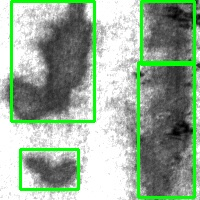patches: (11, 1, 94, 121), (138, 62, 194, 197), (141, 1, 194, 64), (21, 149, 78, 189)
